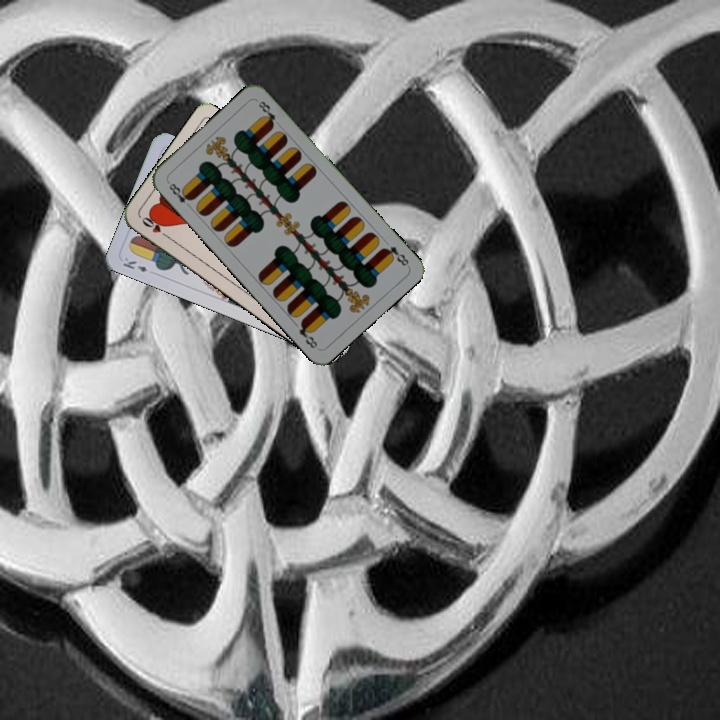E8: (164, 177, 195, 211), (378, 242, 411, 269)
EK: (119, 253, 150, 275)
HO: (137, 212, 172, 241)
